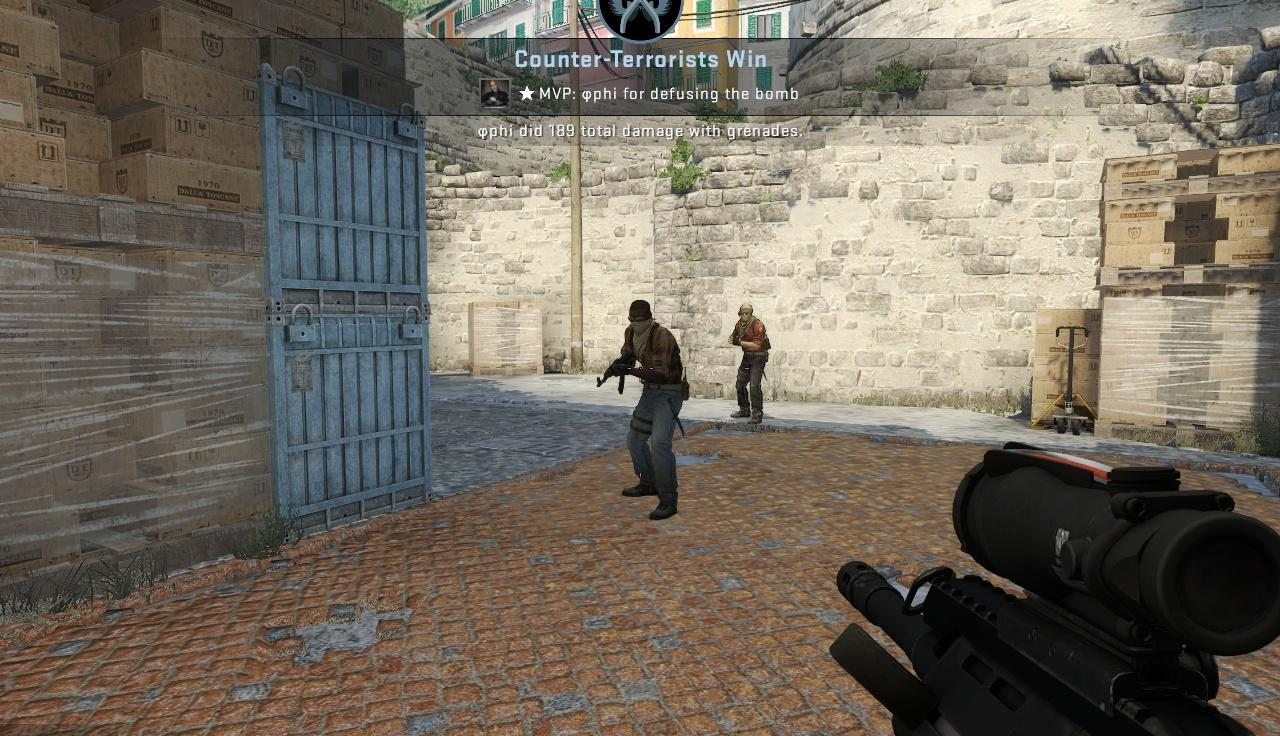rifle: (842, 439, 1280, 732)
tt: (623, 299, 689, 518), (731, 304, 768, 422)
tthead: (628, 300, 654, 331), (736, 306, 753, 325)
